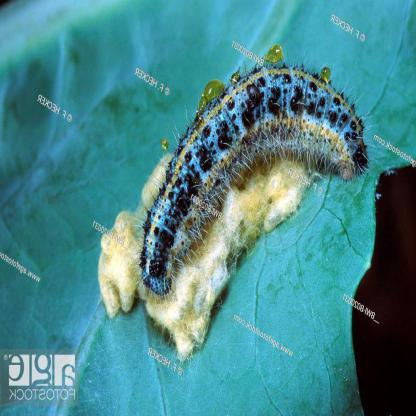pieris: (130, 61, 369, 298)
